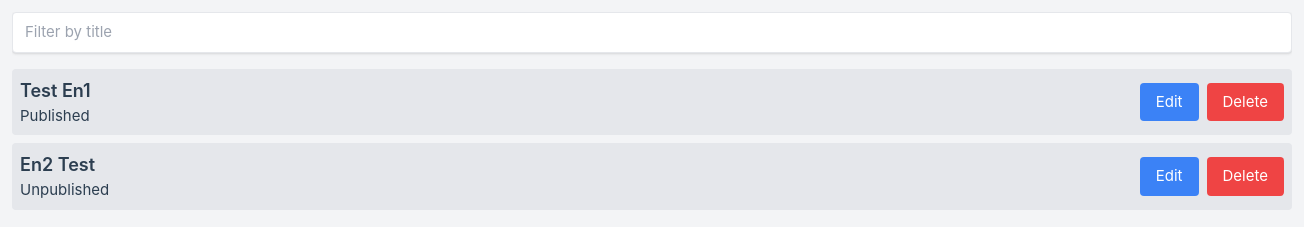
EntityList.vue › filters entities by title
Type "Test En1" into the field with placeholder "Filter by title" at (652, 32), box x1=12 y1=12 x2=1292 y2=52
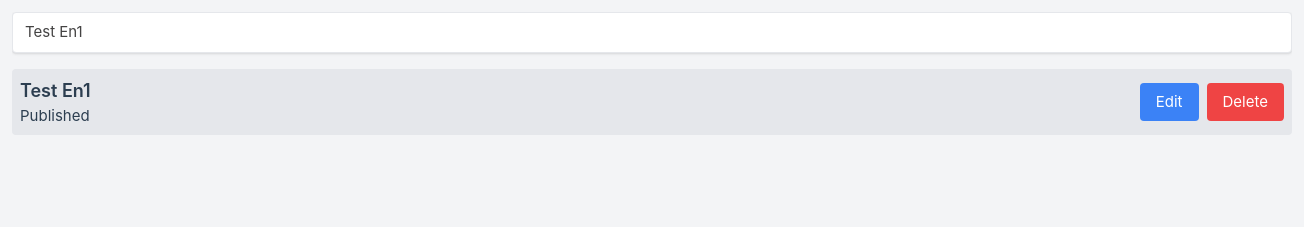
Expected: the list item "Test En1 Published Edit Delete" is shown, x1=12 y1=68 x2=1292 y2=135
Expected: the number of list items is 1, x1=12 y1=68 x2=1292 y2=135
